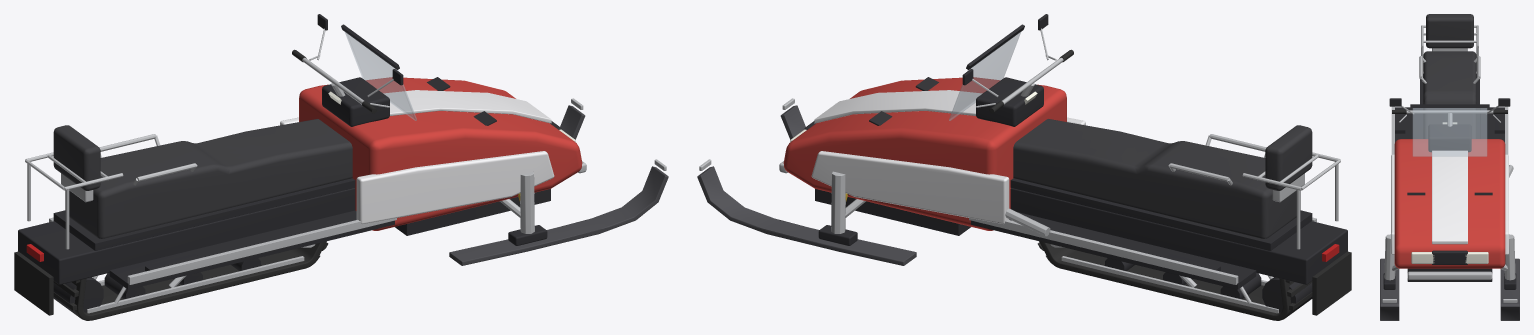
Rendered from snowmobile.glb.
3 renders of one model, left to right at view 1: azimuth 30°, elevation 25°; view 2: azimuth 150°, elevation 25°; view 3: azimuth 270°, elevation 25°, orthographic. The views are drawn at different scales.
Visible parts, largest first — view 1: Seat, Hood, Tunnel, SidePanel.001, Ski.001, TrackBelt, RunningBoard.001, SeatBase, HoodStripe, BoardRail.001, Backrest, Console (+9 smaller); view 2: Seat, Hood, Tunnel, SidePanel, Ski, TrackBelt, SeatBase, RunningBoard, HoodStripe, BoardRail, Backrest, Console (+10 smaller); view 3: Hood, Seat, Windshield, HoodStripe, Backrest, Console, Ski, Ski.001, Bumper, BellyPan, RunningBoard, RunningBoard.001 (+20 smaller).
Boxes of the visible parts, bbox=[...] form: Seat: bbox=[65, 119, 352, 238]; Hood: bbox=[299, 77, 582, 230]; Tunnel: bbox=[18, 188, 355, 284]; SidePanel.001: bbox=[356, 151, 554, 223]; Ski.001: bbox=[449, 166, 668, 265]; TrackBelt: bbox=[71, 241, 326, 320]; RunningBoard.001: bbox=[109, 210, 394, 289]; SeatBase: bbox=[53, 178, 355, 250]; HoodStripe: bbox=[383, 90, 551, 123]; BoardRail.001: bbox=[127, 218, 396, 284]; Backrest: bbox=[53, 125, 100, 190]; Console: bbox=[322, 77, 389, 126]; Seat: bbox=[1013, 119, 1300, 238]; Hood: bbox=[783, 77, 1066, 230]; Tunnel: bbox=[1010, 188, 1347, 284]; SidePanel: bbox=[811, 151, 1009, 223]; Ski: bbox=[697, 166, 916, 265]; TrackBelt: bbox=[1039, 241, 1294, 320]; SeatBase: bbox=[1010, 178, 1312, 250]; RunningBoard: bbox=[971, 212, 1256, 289]; HoodStripe: bbox=[814, 90, 982, 123]; BoardRail: bbox=[969, 218, 1238, 284]; Backrest: bbox=[1265, 125, 1312, 190]; Console: bbox=[976, 77, 1043, 126]; Hood: bbox=[1394, 139, 1505, 268]; Seat: bbox=[1423, 51, 1476, 138]; Windshield: bbox=[1412, 108, 1487, 156]; HoodStripe: bbox=[1432, 150, 1467, 244]; Backrest: bbox=[1426, 14, 1473, 48]; Console: bbox=[1428, 124, 1471, 152]; Ski: bbox=[1500, 258, 1519, 320]; Ski.001: bbox=[1380, 258, 1399, 320]; Bumper: bbox=[1407, 271, 1492, 279]; BellyPan: bbox=[1407, 268, 1492, 281]; RunningBoard: bbox=[1480, 107, 1504, 142]; RunningBoard.001: bbox=[1395, 107, 1419, 142].
Size of the model in its own units: 4.08 by 1.34 by 1.16.
